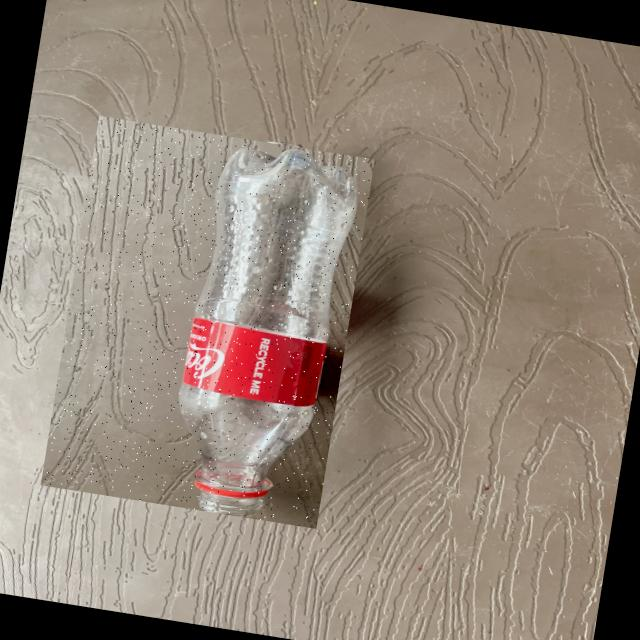REJECT: (41, 116, 374, 529)
